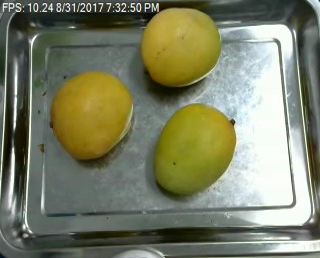Mango: (50, 72, 134, 160), (154, 103, 235, 193), (142, 7, 220, 86)
